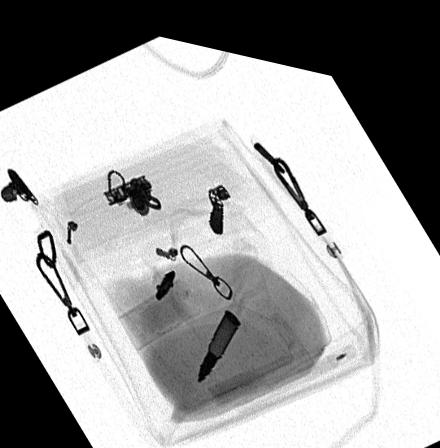Bullet: (196, 295, 242, 374)
